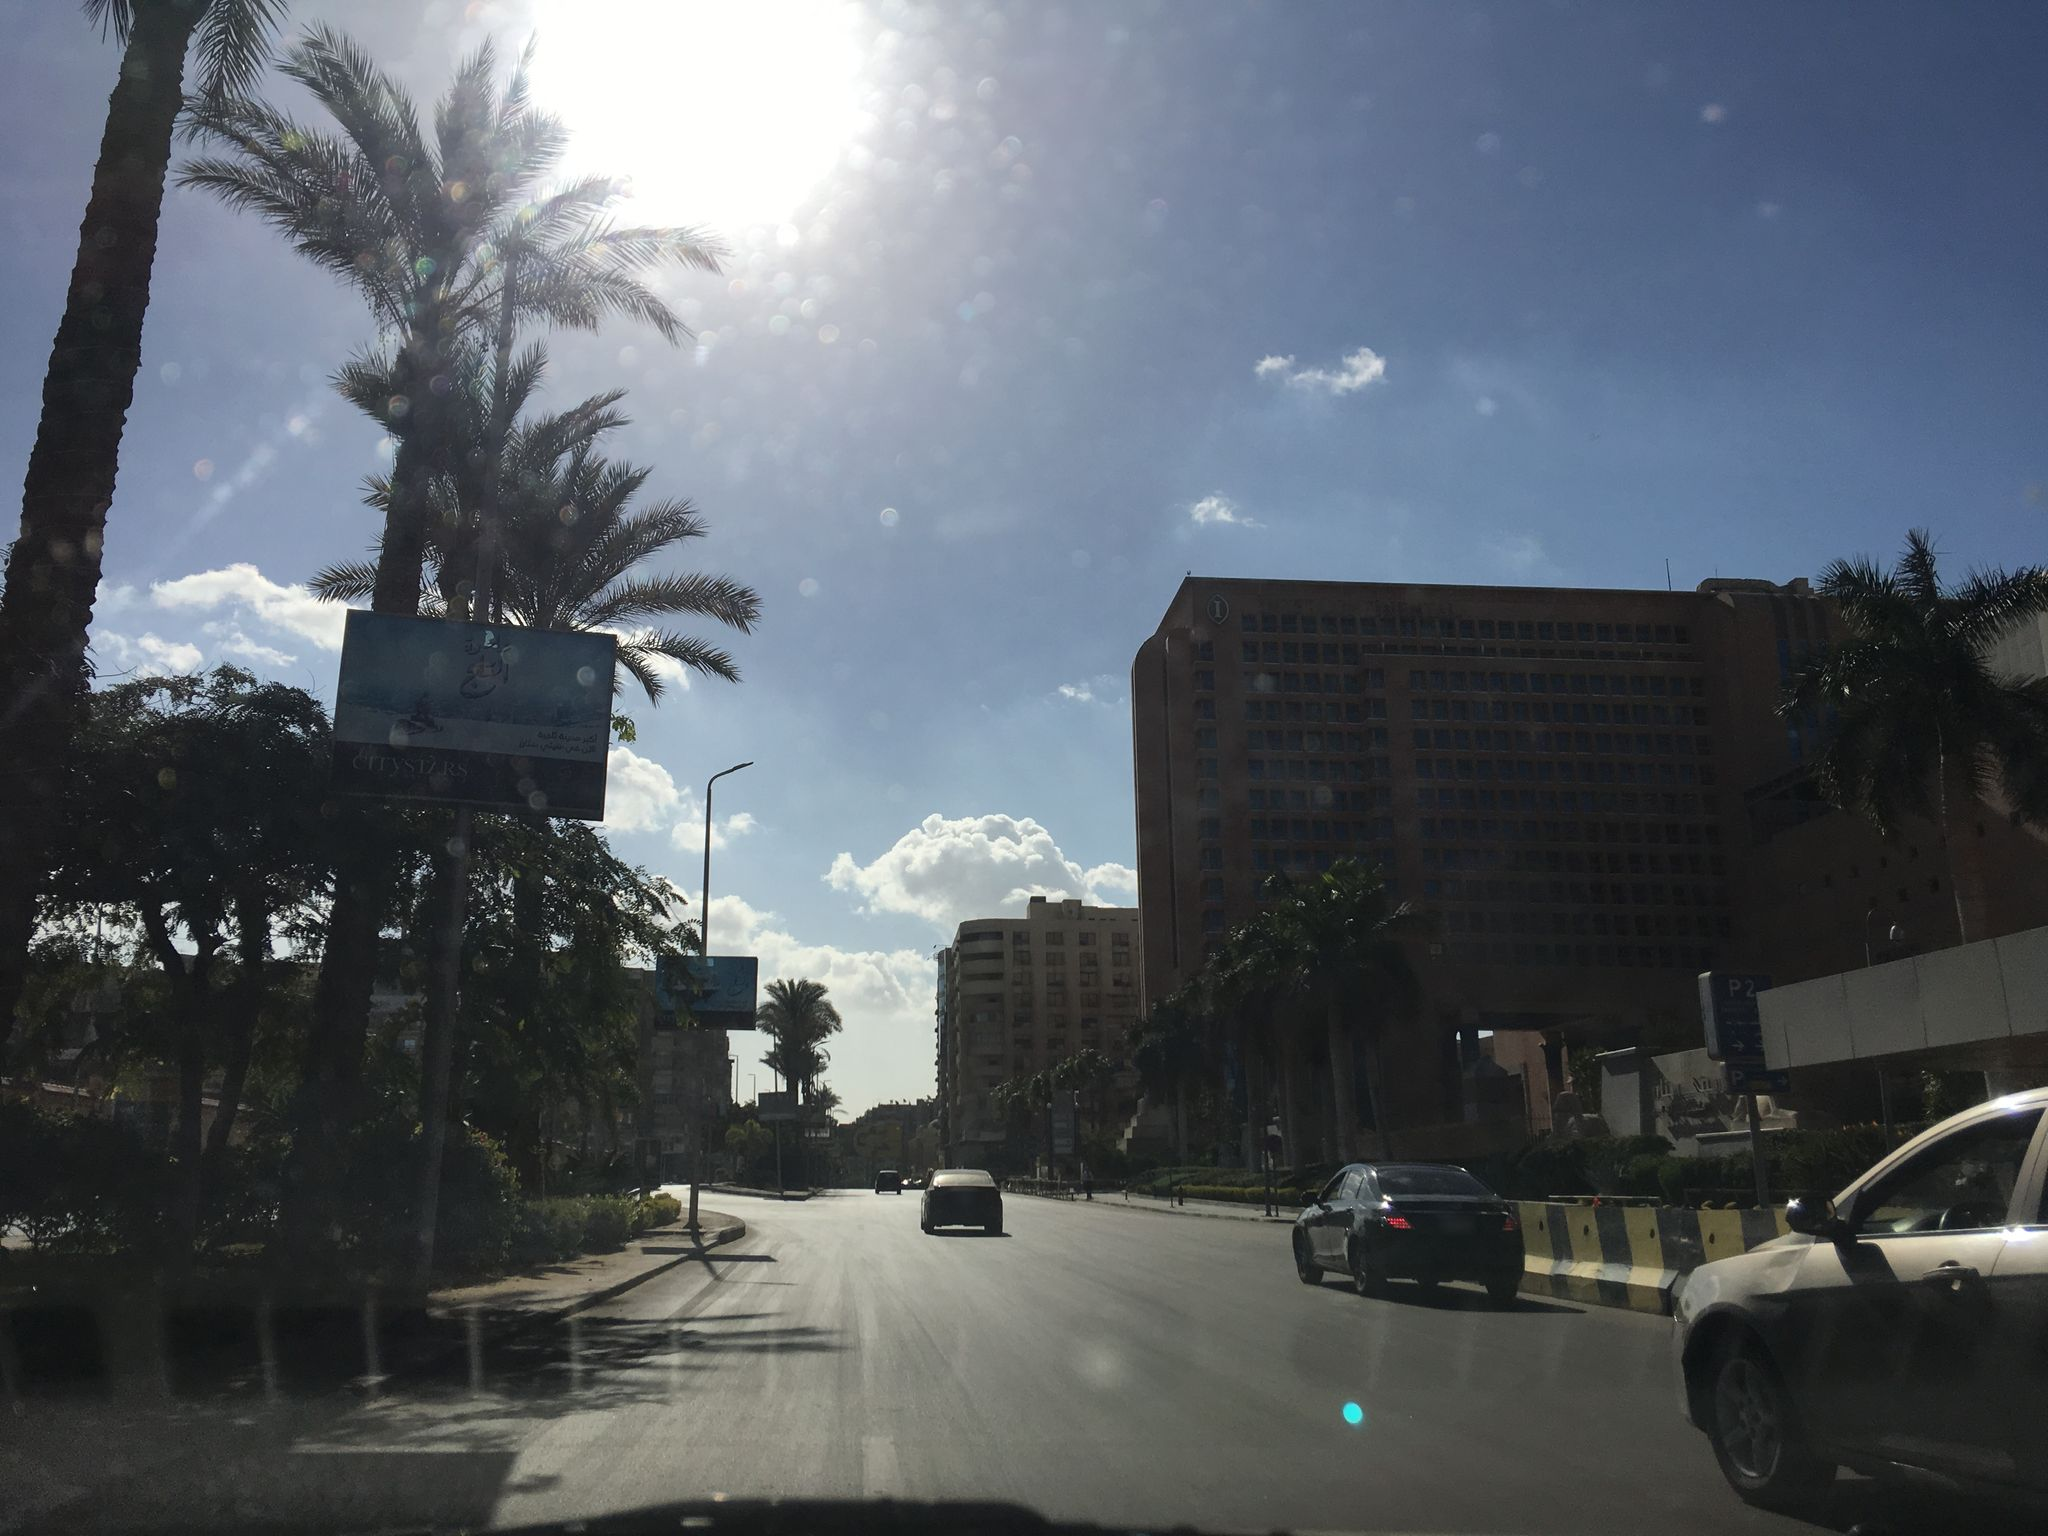car: (1664, 1084, 2048, 1505), (1290, 1162, 1526, 1304), (921, 1167, 1003, 1234), (874, 1170, 901, 1196)
